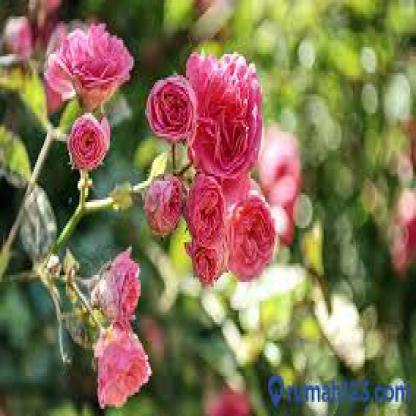Rose-Mawar: (42, 11, 275, 408)
